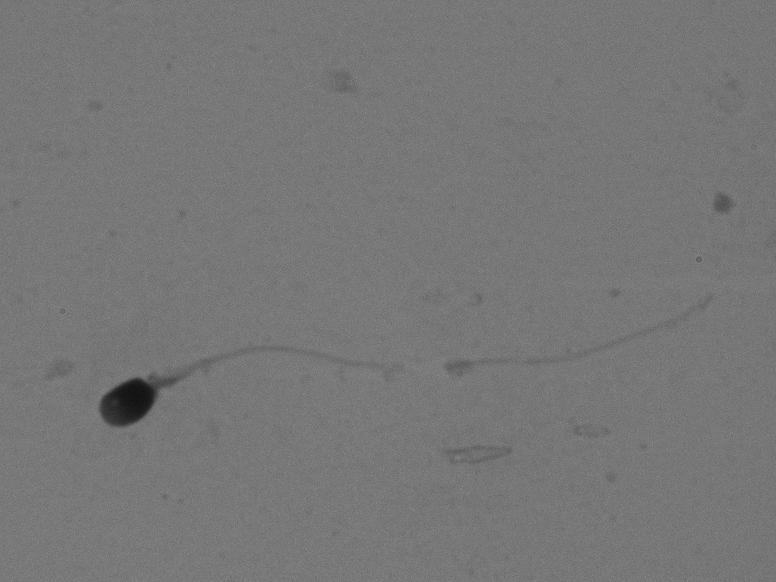Abnormal: (84, 252, 729, 437)
